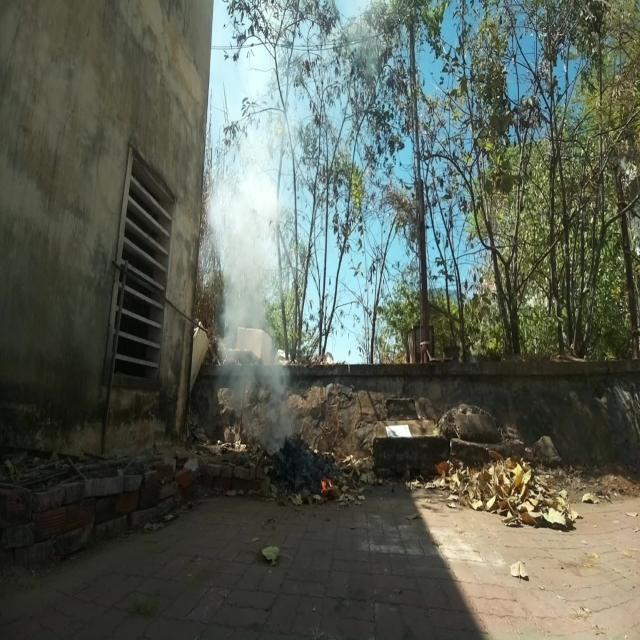Fire: (318, 474, 334, 496)
Smoke: (202, 168, 298, 452)
